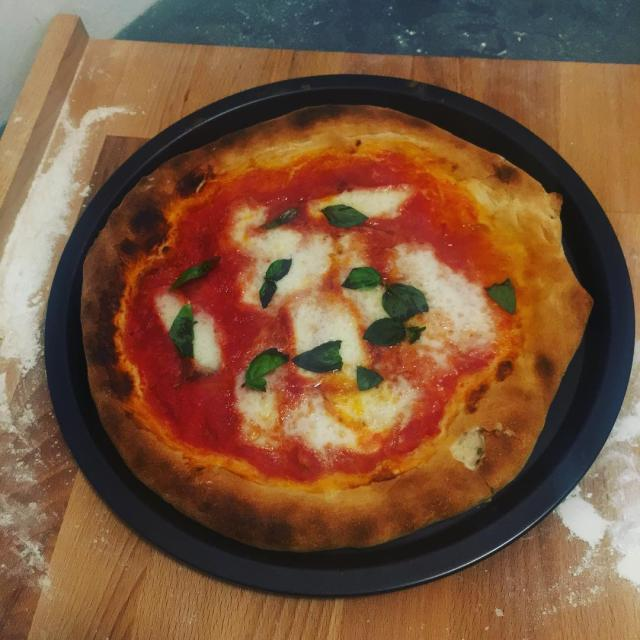basil: (242, 348, 288, 393), (170, 254, 218, 293), (292, 338, 344, 374), (381, 284, 429, 322), (259, 256, 291, 310), (170, 302, 198, 361), (364, 316, 407, 351), (482, 278, 517, 316), (320, 204, 370, 230), (341, 264, 384, 292), (355, 362, 383, 394), (263, 206, 297, 231), (406, 322, 424, 345)
pizza: (83, 106, 592, 550)
